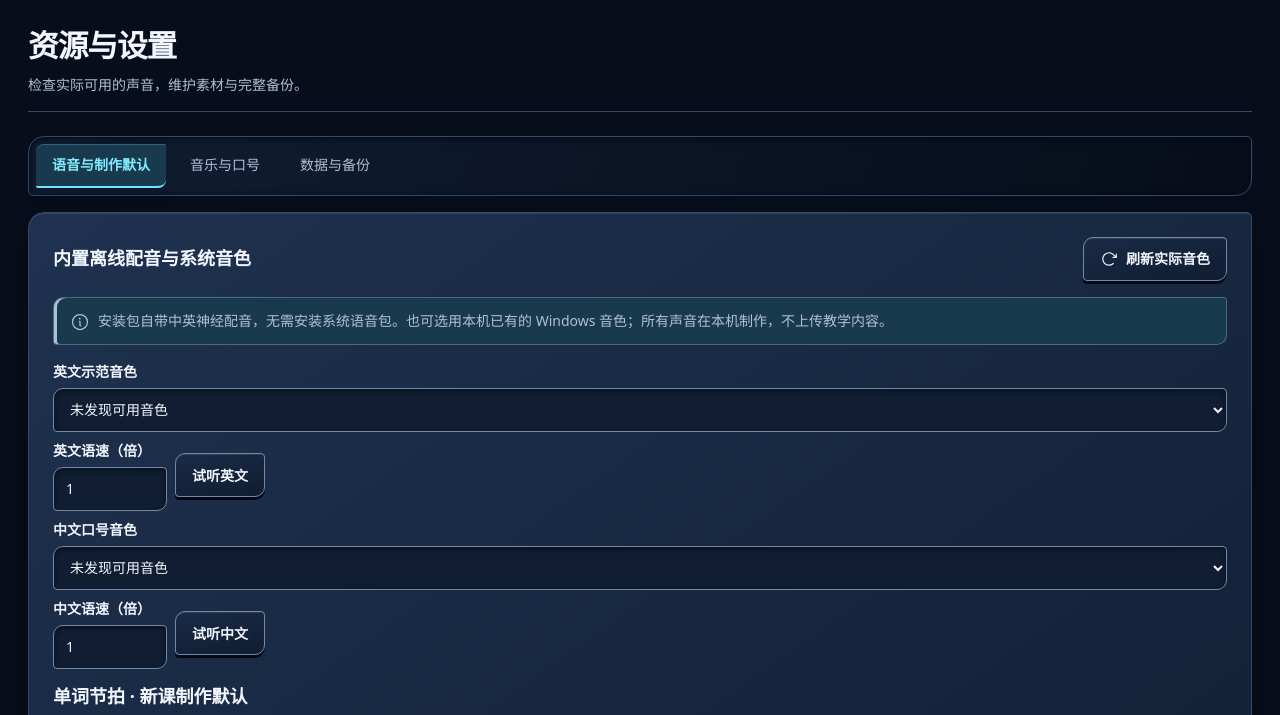
资源与设置的影响范围 › 按真实类型筛选音乐，先展示引用；移出资源库不代替缓存清理或删除课件声音
What coordinates should you click on to do the following:
click the tab "音乐与口号"
I would click on:
 (225, 166)
Its box is [174,144,276,188].
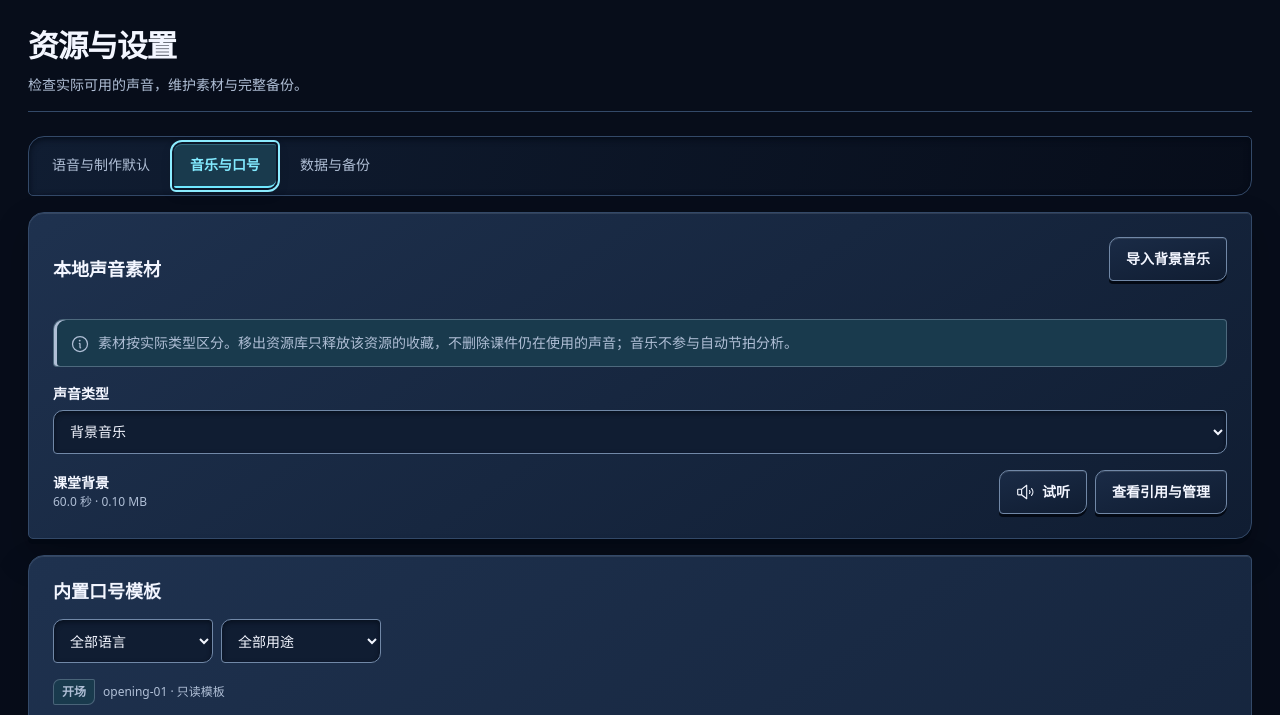
Check: the text "课堂背景" is shown, box [53,473,109,492]
What coordinates should you click on to do the following:
click the button "查看引用与管理"
I would click on:
 (1161, 492)
Its box is [1095,470,1227,514].
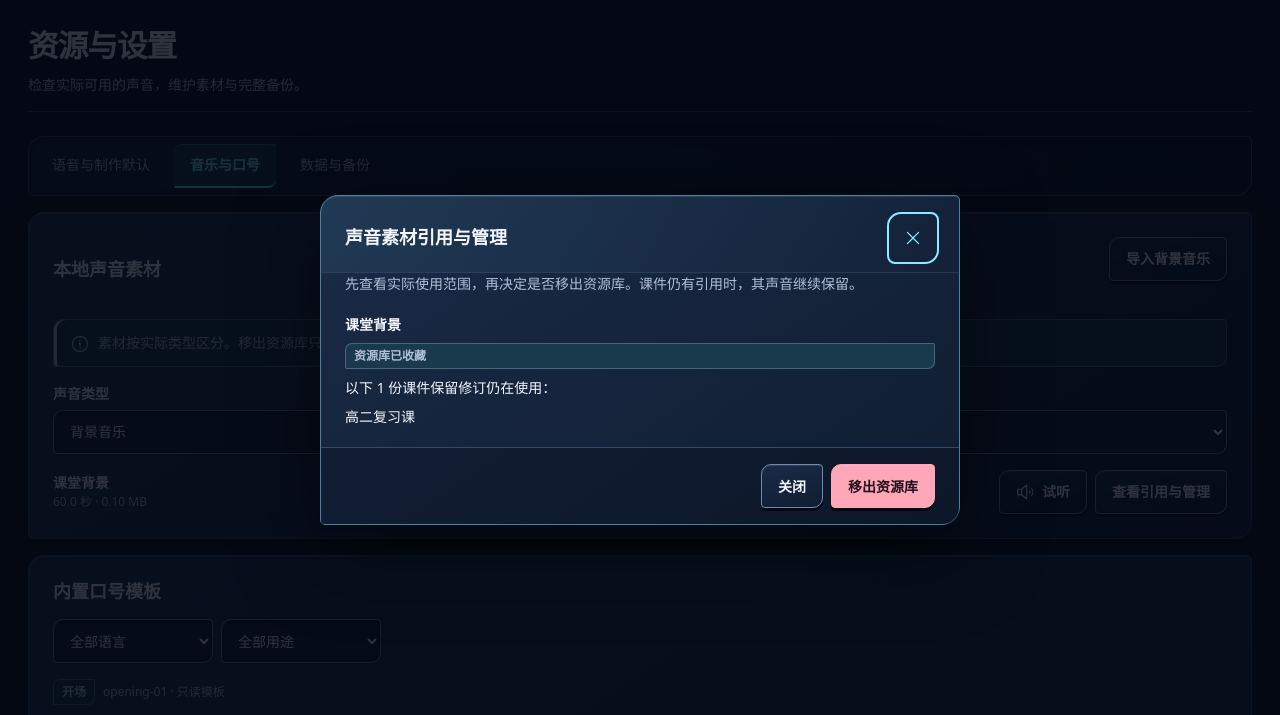
Check: the list item "高二复习课" is shown, box [345,407,415,426]
What coordinates should you click on to do the following:
click the button "移出资源库"
I would click on:
 (883, 486)
Its box is [831,464,935,508].
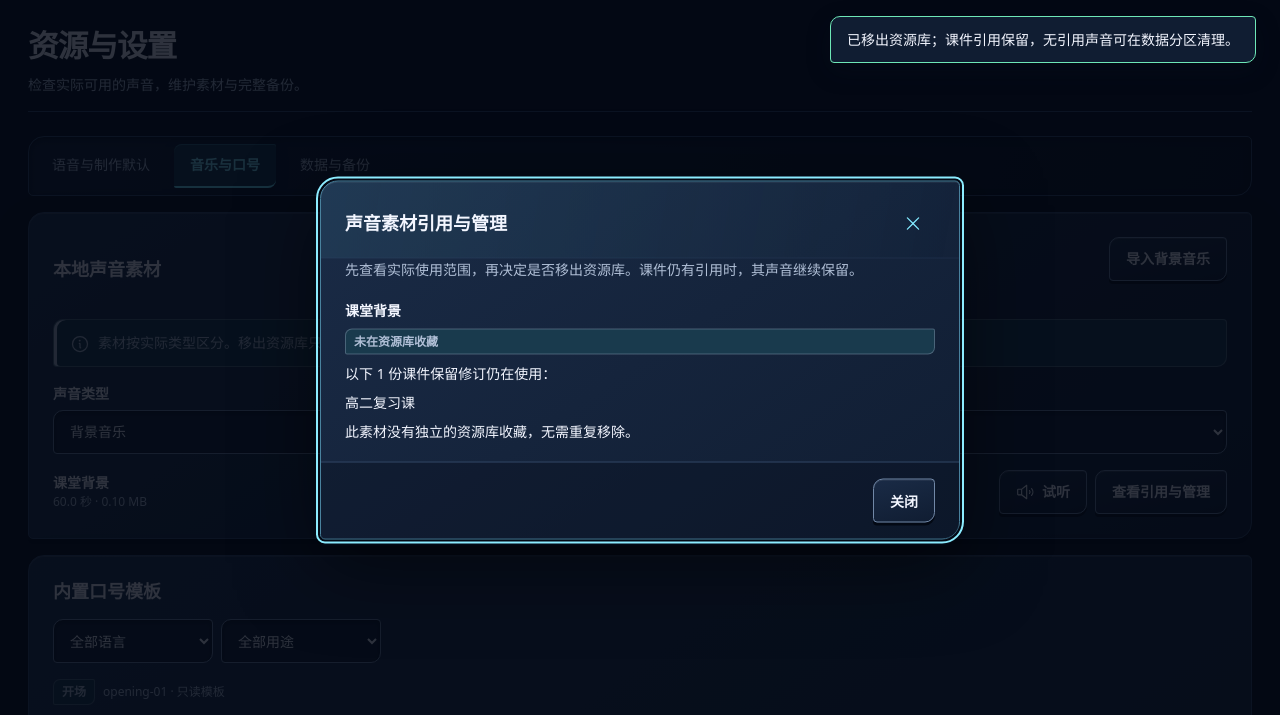
Check: the list item "高二复习课" is shown, box [345,392,415,412]
Check: the text "未在资源库收藏" is shown, box [345,328,935,354]
